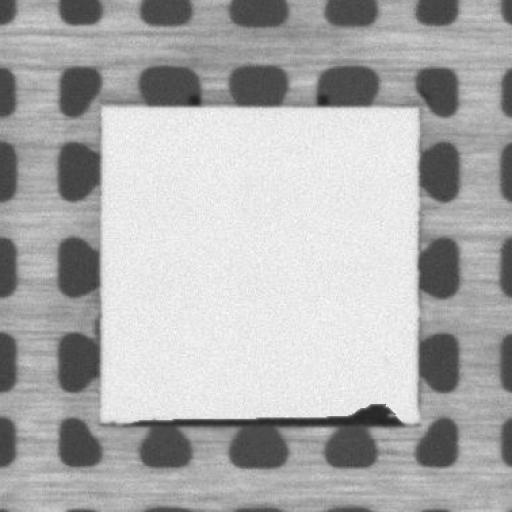DIE_BROKEN: (136, 394, 406, 427)
